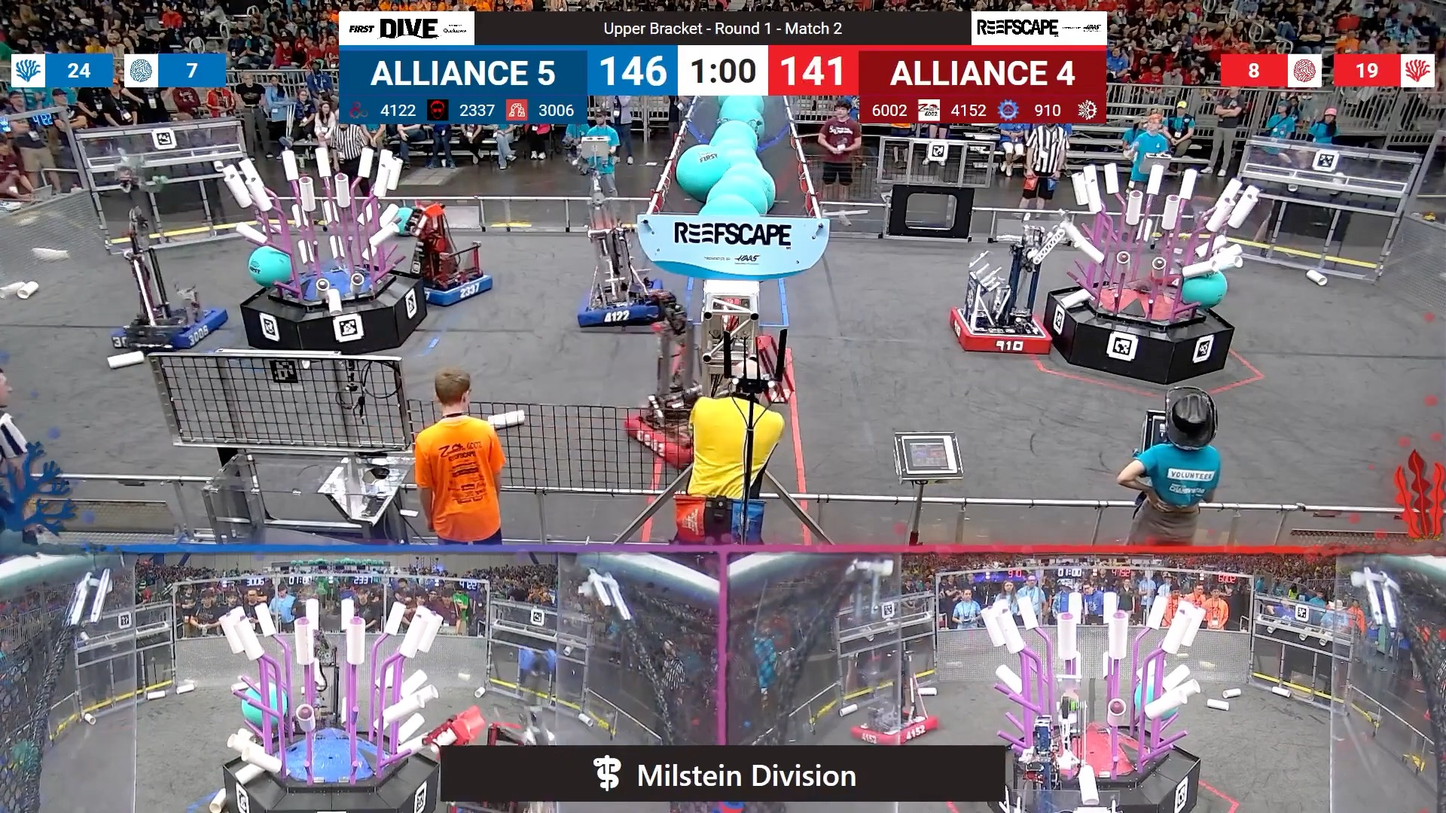bumpers: (617, 404, 726, 464), (945, 303, 1061, 359), (108, 303, 233, 354), (575, 276, 677, 333), (405, 267, 502, 309), (844, 707, 944, 746)
